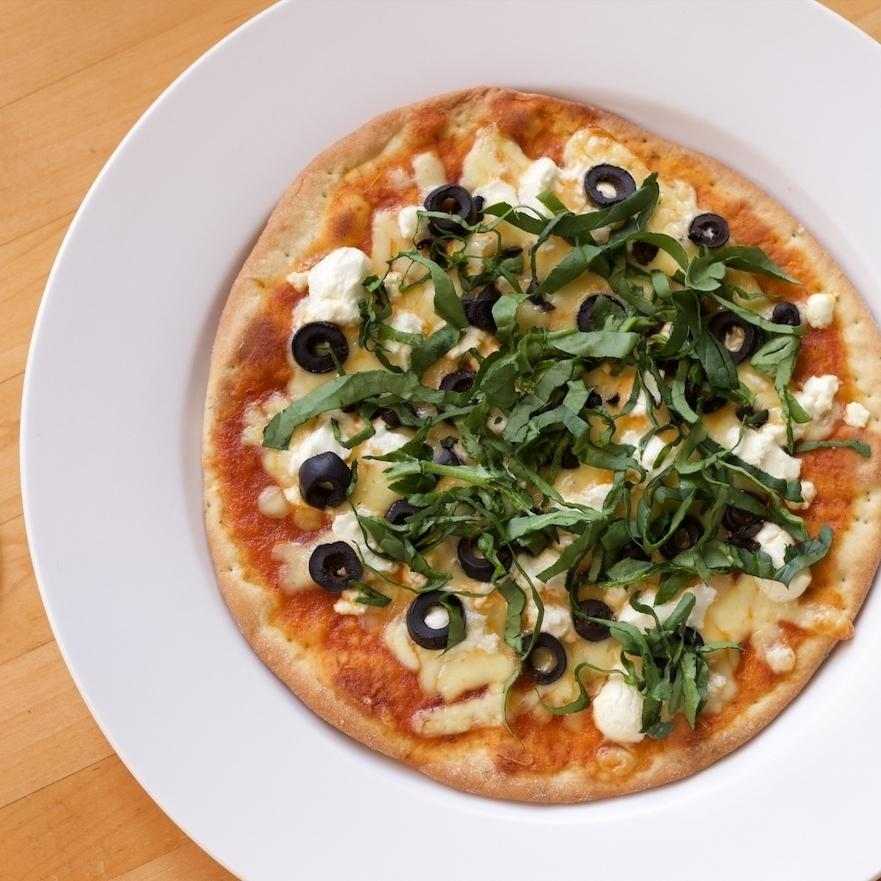Basil: (513, 196, 794, 433), (373, 459, 678, 584), (571, 431, 829, 570), (532, 599, 744, 724), (246, 364, 530, 457), (492, 577, 549, 745)
Cheese: (748, 522, 814, 603), (616, 584, 716, 632), (299, 244, 361, 313), (495, 158, 551, 209), (294, 414, 353, 459), (600, 689, 650, 741), (795, 370, 840, 419), (360, 419, 416, 456), (744, 439, 796, 475), (800, 289, 841, 331), (330, 507, 364, 538), (843, 400, 871, 428)
Olives: (397, 581, 473, 653), (375, 494, 447, 554), (719, 479, 777, 553), (451, 528, 521, 583), (301, 535, 370, 589), (703, 309, 765, 368), (417, 178, 485, 231), (298, 449, 354, 512), (641, 504, 701, 561), (571, 287, 636, 338), (288, 318, 350, 368), (679, 206, 737, 258), (579, 153, 643, 200), (518, 630, 572, 685), (429, 364, 481, 421), (456, 286, 512, 336), (570, 588, 619, 641), (688, 364, 733, 418), (768, 301, 803, 338)
Pizza: (187, 82, 881, 811)
